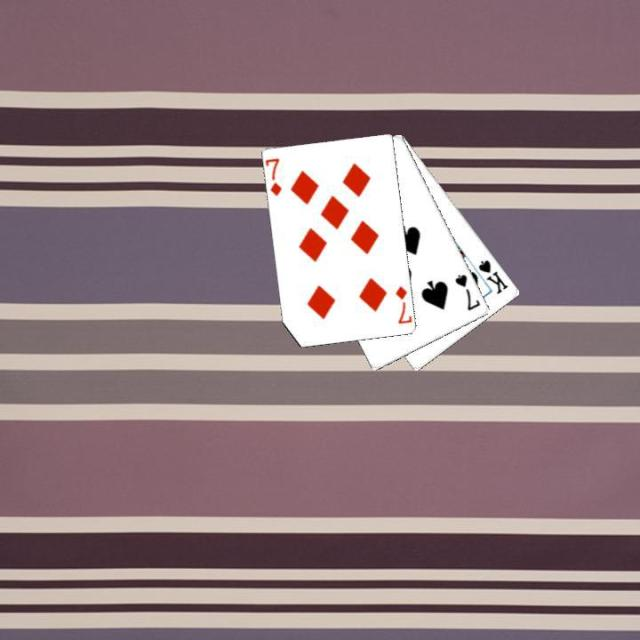7D: (392, 282, 412, 326), (264, 155, 284, 198)
7S: (452, 270, 482, 312)
KS: (475, 256, 510, 296)
